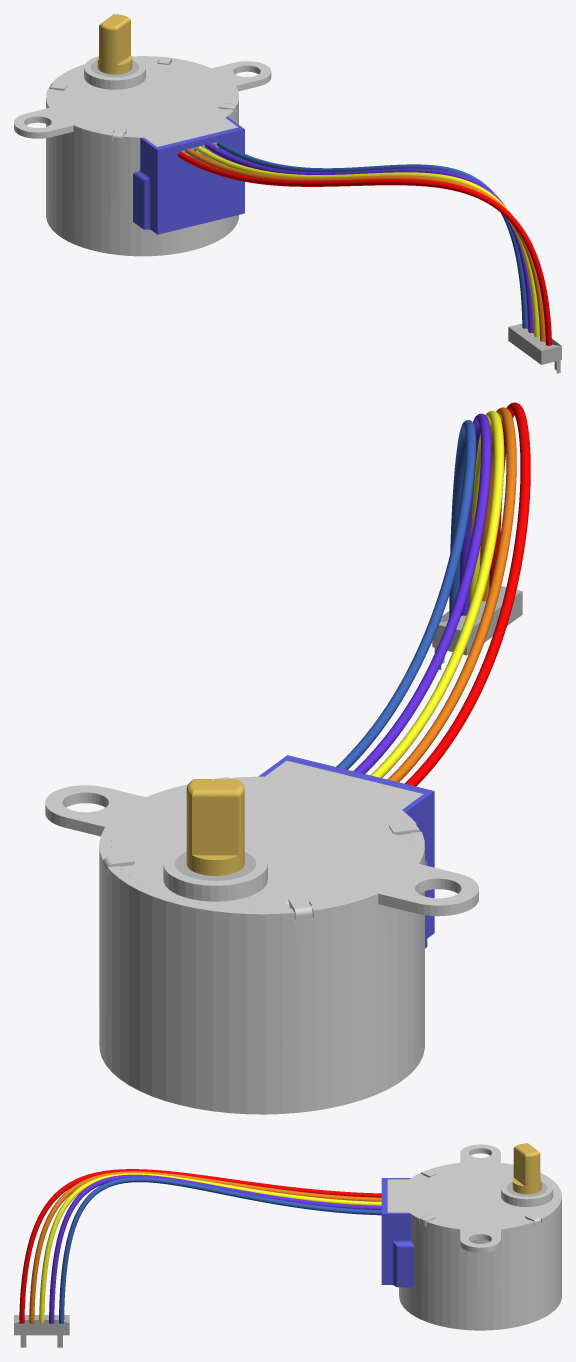
File: 14. STEPPER MOTOR.gltf
3 views of the same model, one above another, from view 1: azimuth 30°, elevation 25°; view 2: azimuth 150°, elevation 25°; view 3: azimuth 270°, elevation 25° (orthographic). The views are drawn at different scales.
Parts seen in each view (by area): view 1: latao-material.001; view 2: latao-material.001; view 3: latao-material.001.
Part boxes in pixels (<box>): latao-material.001: <box>14,14,561,373</box>; latao-material.001: <box>45,402,530,1114</box>; latao-material.001: <box>14,1143,561,1347</box>.
Size of the model in its own units: 0.0449 by 0.0294 by 0.0942.
